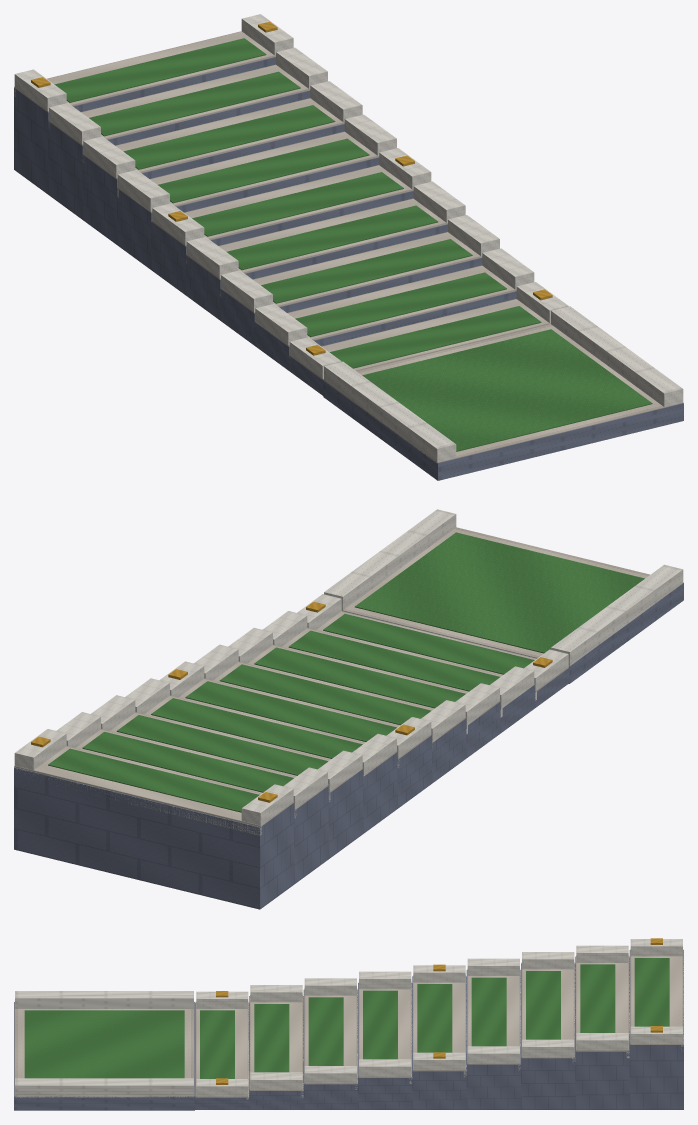
Rendered from high_crown_step.obj.
3 views of the same model, one above another, from view 1: azimuth 30°, elevation 25°; view 2: azimuth 150°, elevation 25°; view 3: azimuth 270°, elevation 25° (orthographic). The views are drawn at different scales.
Visible parts, largest first — view 1: high_crown_step; view 2: high_crown_step; view 3: high_crown_step.
Boxes of the visible parts, x1,y1,x2,y2 form: high_crown_step: [14, 14, 683, 480]; high_crown_step: [14, 509, 683, 909]; high_crown_step: [14, 938, 683, 1110].
Bounding box in the file's own units: 12.4 × 4.79 × 37.
Materials: 5 (5 with a texture image).
